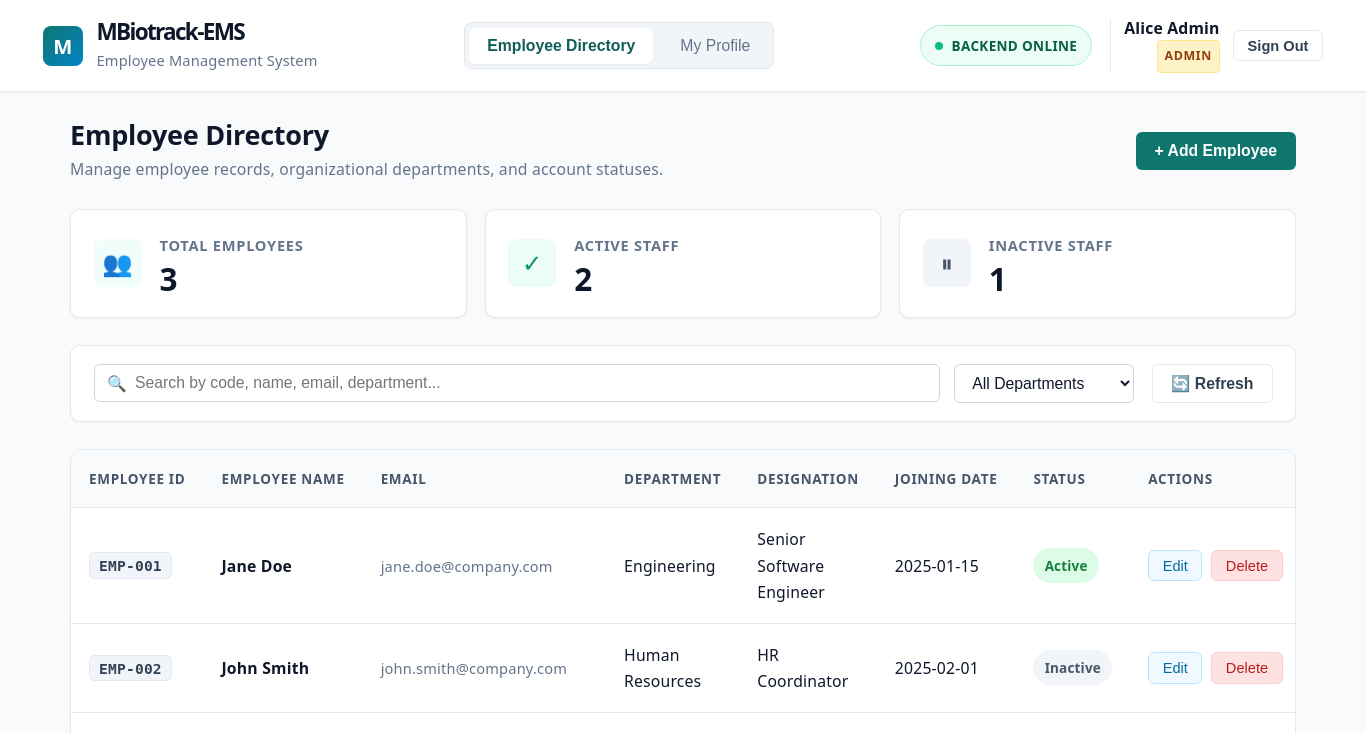
Scenario: App component role-based access & directory UI › Search and department filtering in directory › filters rows by text search and department select
This screenshot has width=1366, height=733.
Check: the text "EMP-001" is shown, box [89,552,172,579]
Check: the text "EMP-002" is shown, box [89,655,172,681]
// Search by text
Type "Jane" into the field with placeholder "Search by code, name, email, department..." at coordinates (517, 383), box [94,364,940,402]
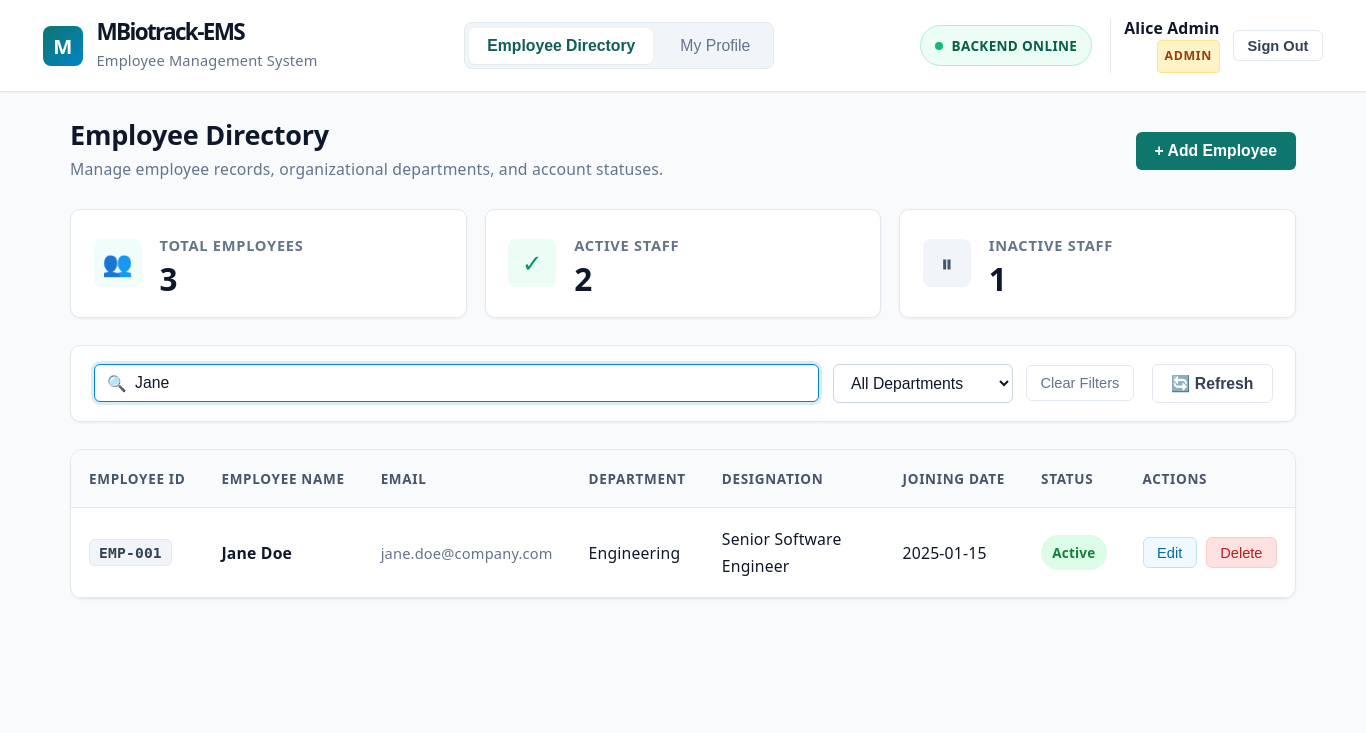
Check: the text "EMP-001" is shown, box [89,539,172,566]
Check: the text "EMP-002" is gone
// Clear search
Clear the field with placeholder "Search by code, name, email, department..." at coordinates (456, 383), box [94,364,819,402]
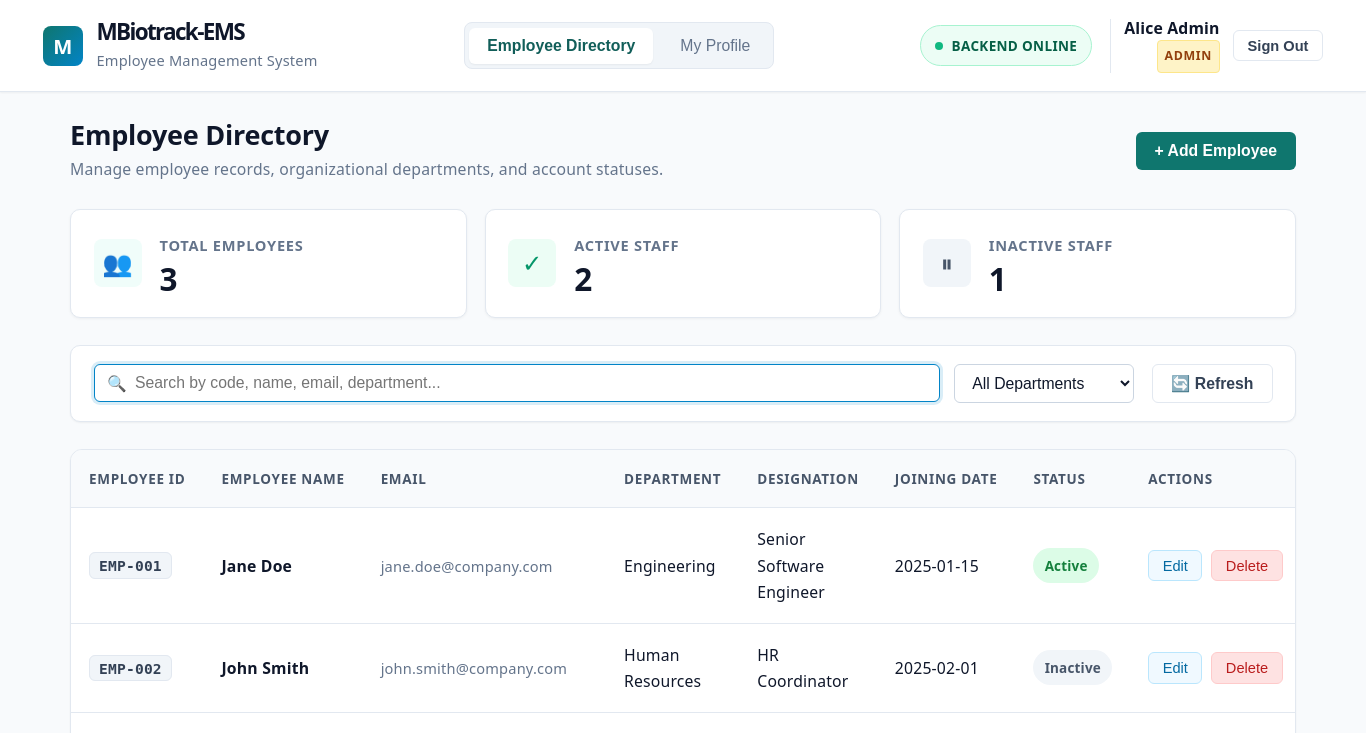
Check: the text "EMP-002" is shown, box [89,655,172,681]
// Filter by department
Select "Human Resources" in the dropdown named "filter by department" at coordinates (1044, 383), box [954,364,1134,403]
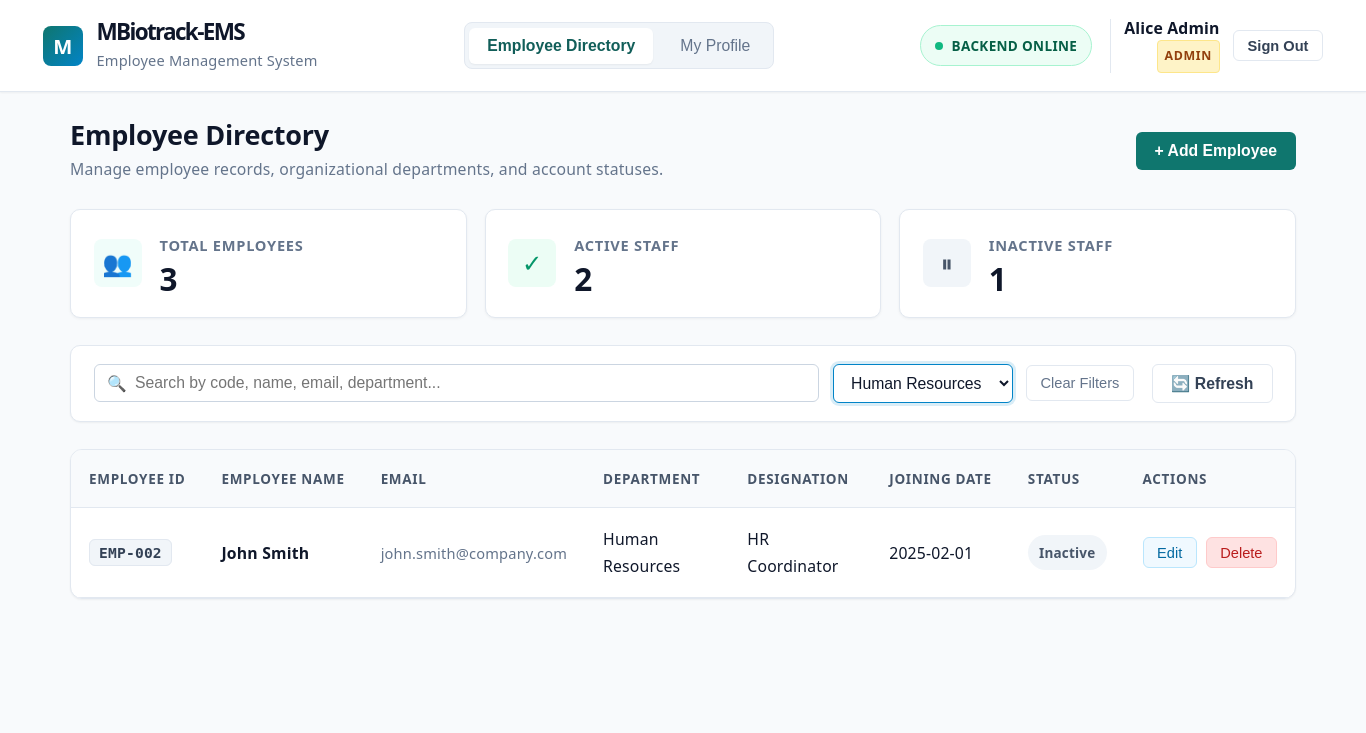
Check: the text "EMP-002" is shown, box [89,539,172,566]
Check: the text "EMP-001" is gone
// Clear filter button
Click the button "Clear Filters" at coordinates (1080, 383), box [1026,365,1134,401]
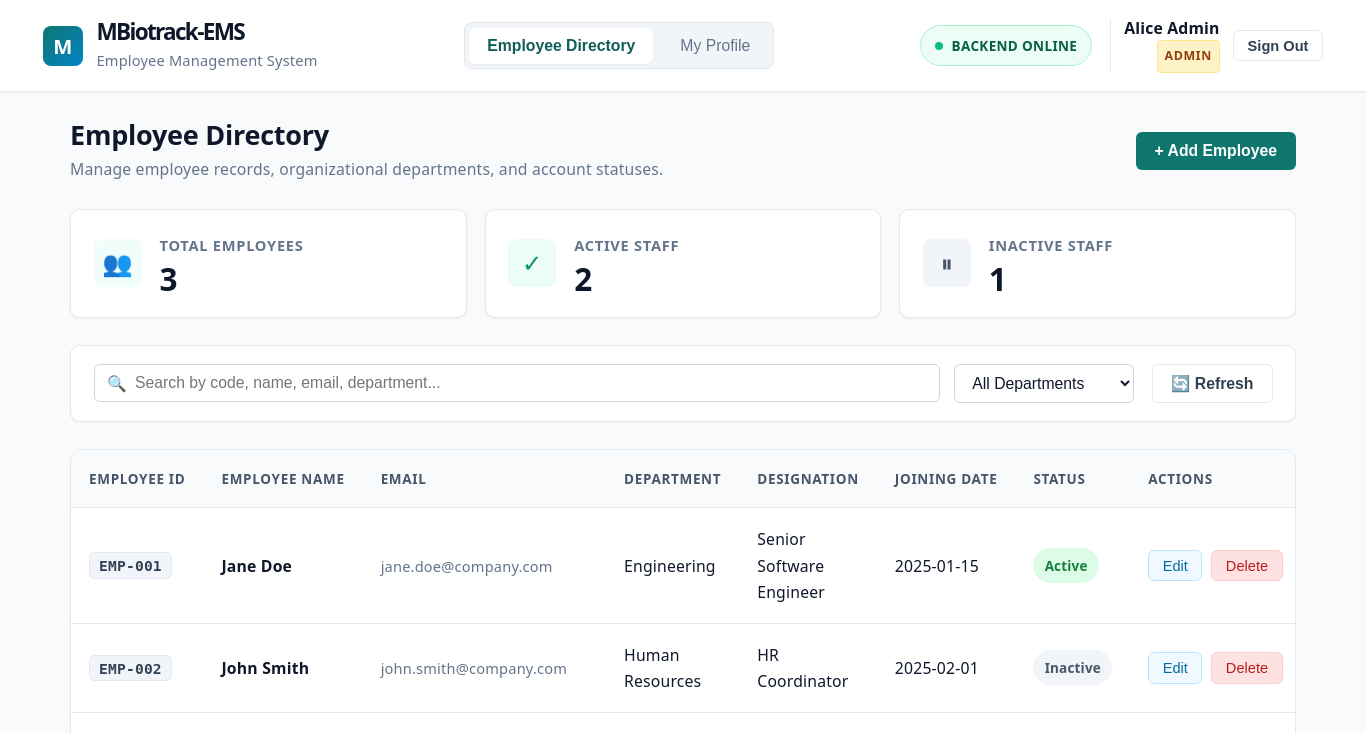
Check: the text "EMP-001" is shown, box [89,552,172,579]
